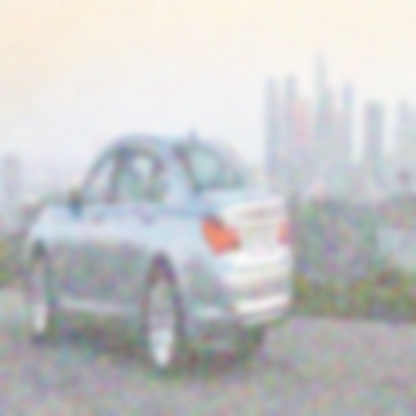Vehicle: (22, 137, 297, 347)
